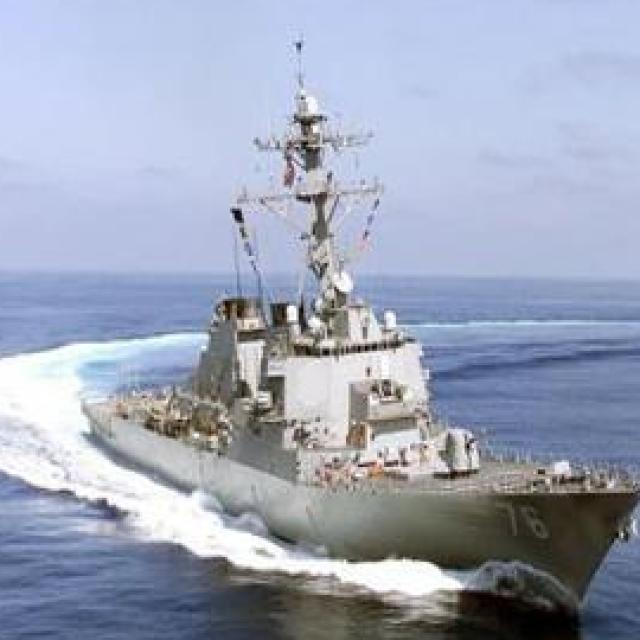navalvessels: (78, 31, 640, 602)
